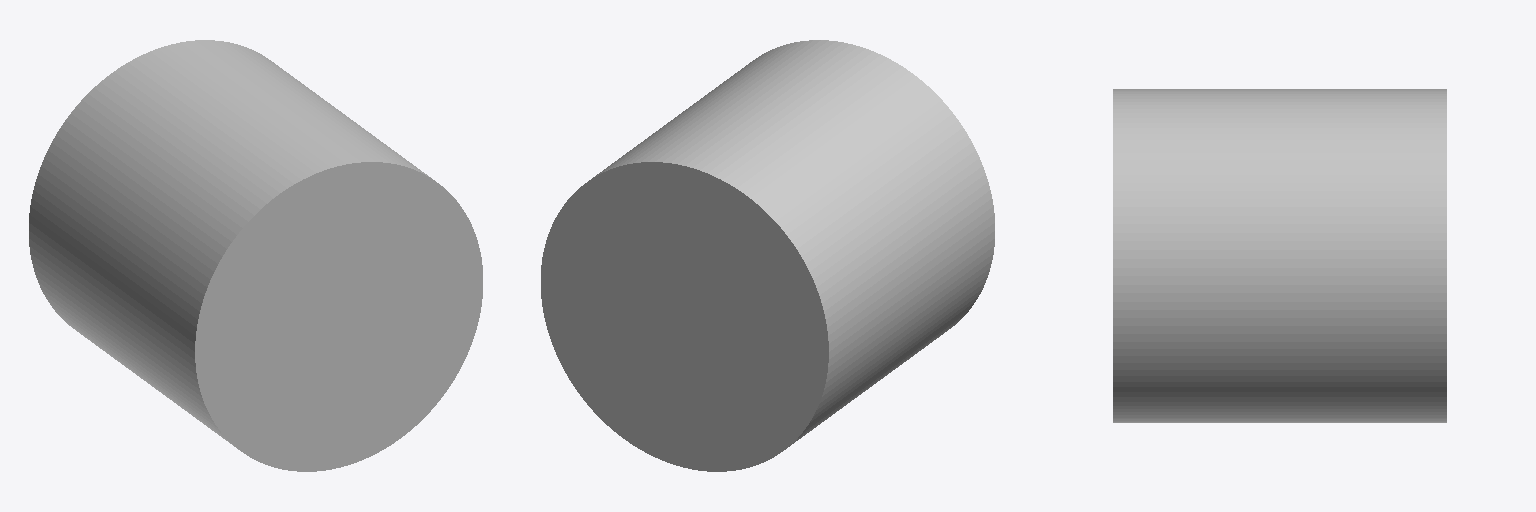
File: cylindre.obj
3 renders of one model, left to right at view 1: azimuth 30°, elevation 25°; view 2: azimuth 150°, elevation 25°; view 3: azimuth 270°, elevation 25°, orthographic.
Parts seen in each view (by area): view 1: Object.1; view 2: Object.1; view 3: Object.1.
Part boxes in pixels (x1,y1,x2,y2): Object.1: (29, 40, 482, 471); Object.1: (541, 40, 994, 471); Object.1: (1113, 89, 1446, 422).
Size of the model in its own units: 40 by 40 by 40.